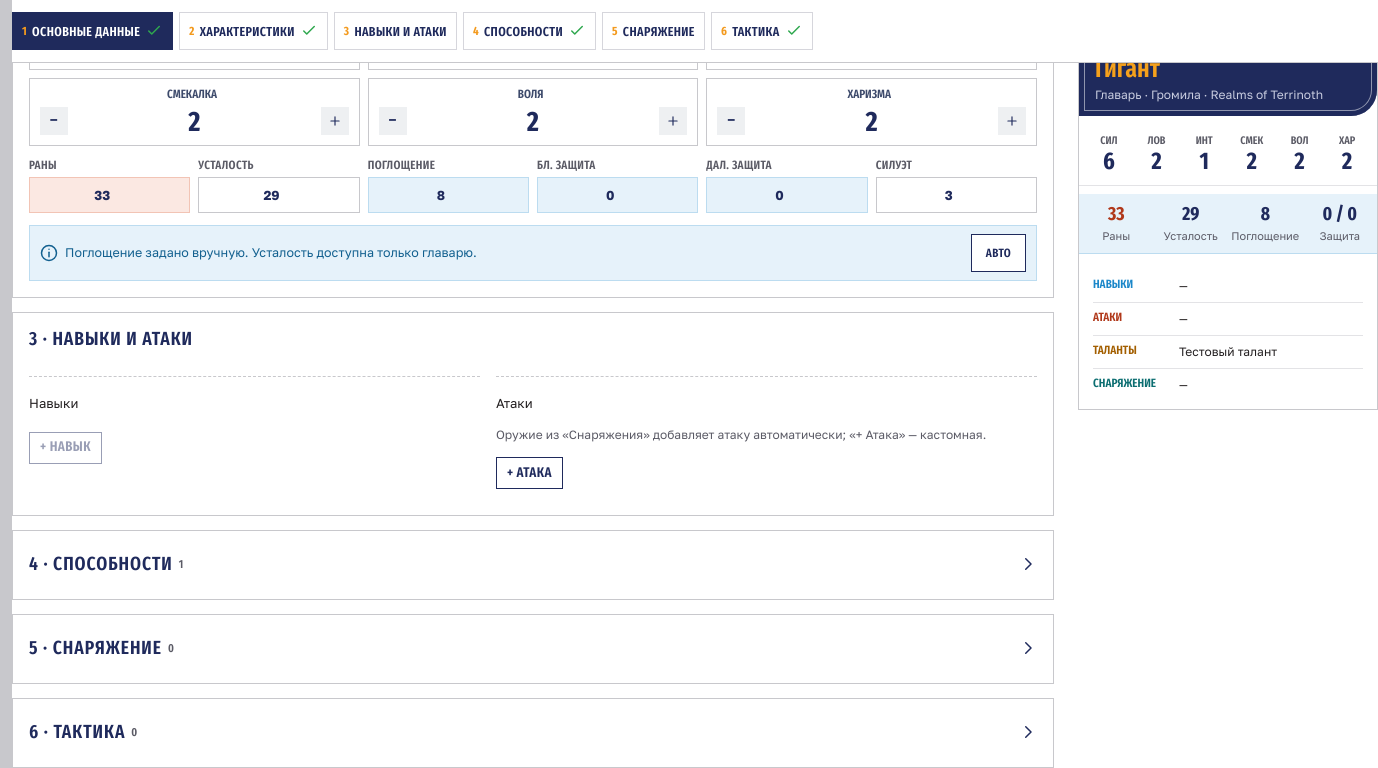
Test case: NpcsPage — встроенный бестиарий › keeps nemesis strain editable and places talents with abilities
(page scrolled)
Expected: the number field labelled "Усталость" is enabled, left=198, top=177, right=360, bottom=213
Expected: the number field labelled "Усталость" holds "29", left=198, top=177, right=360, bottom=213
Click the button "4 · Способности 1" at (113, 564), box left=29, top=545, right=1037, bottom=583
(page scrolled)
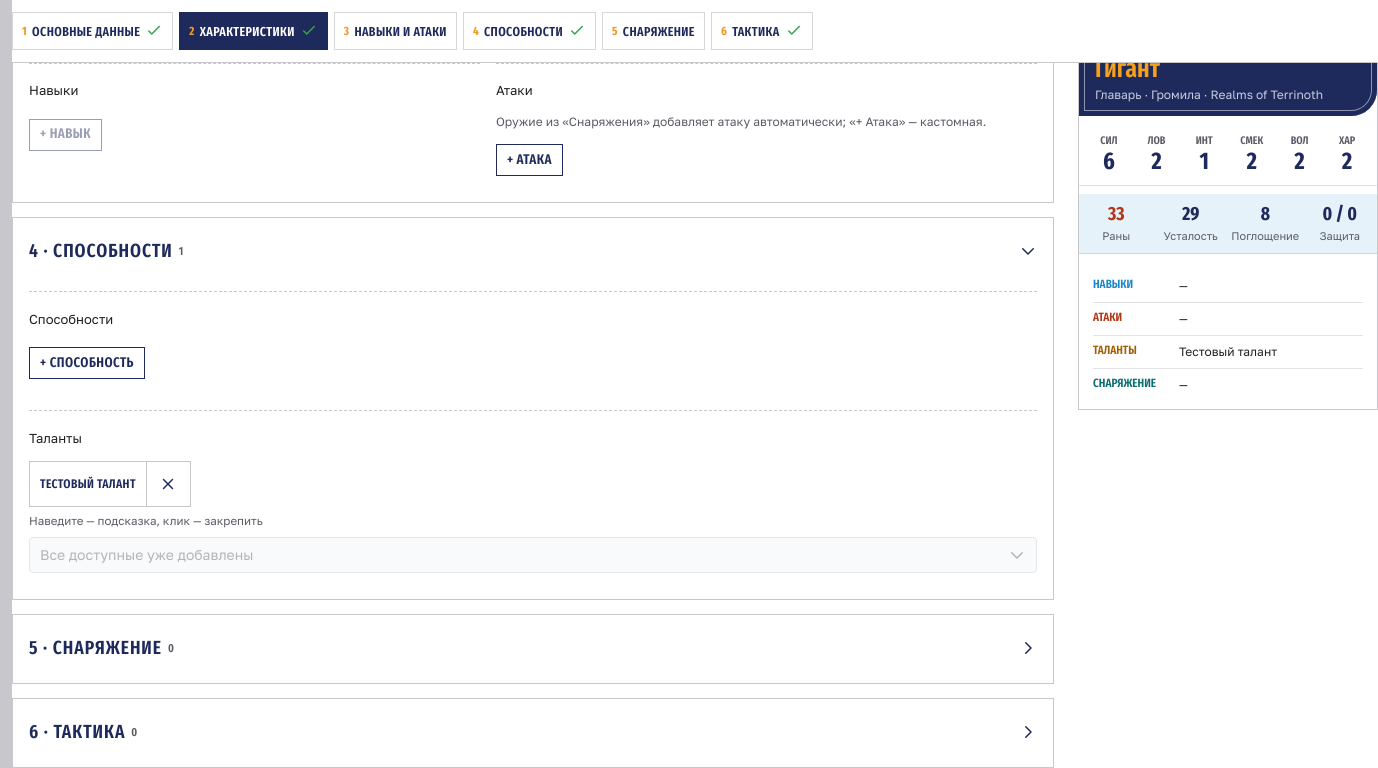
Now the dropdown named "Таланты" is shown, box left=29, top=537, right=1037, bottom=573
